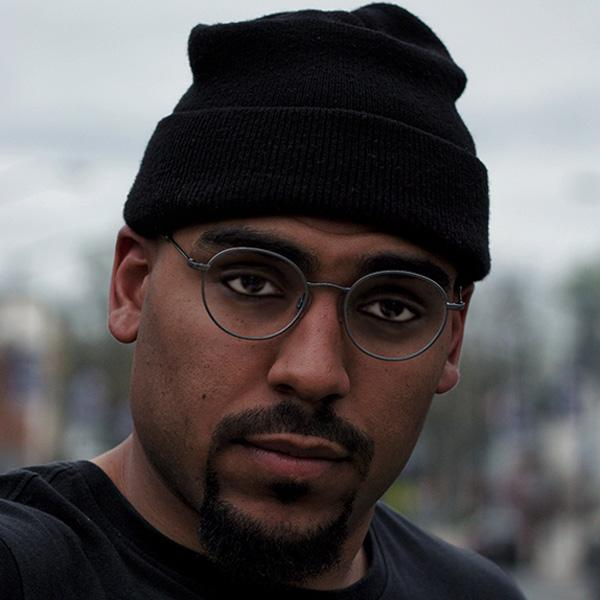Eyes: (209, 254, 294, 309), (350, 280, 426, 336)
